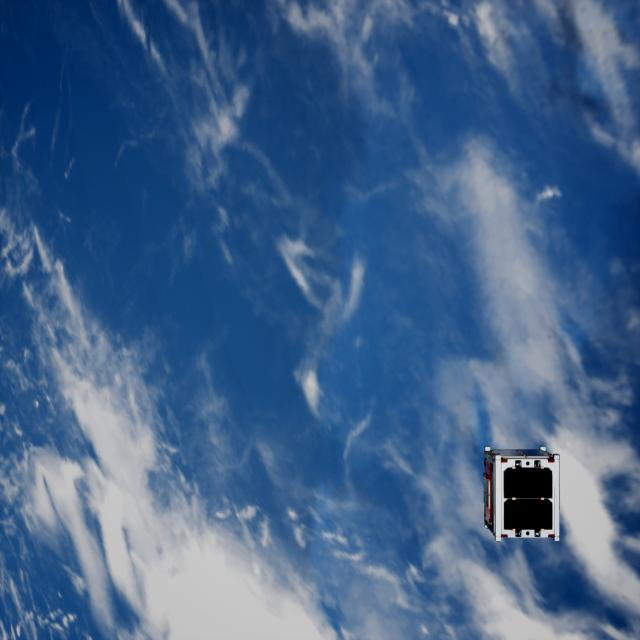medium_debris: (479, 442, 566, 541)
